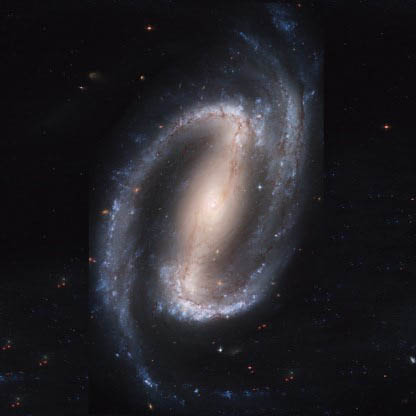NGC 1300: (89, 7, 324, 410)
